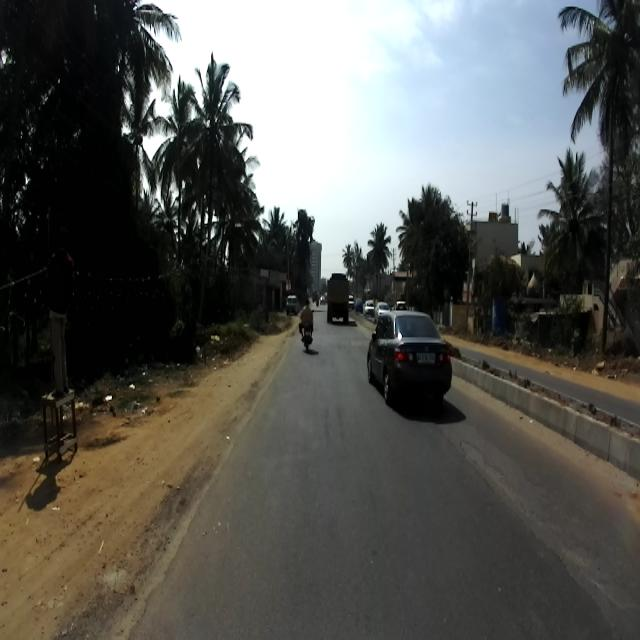car ahead at: (366, 302, 453, 406)
